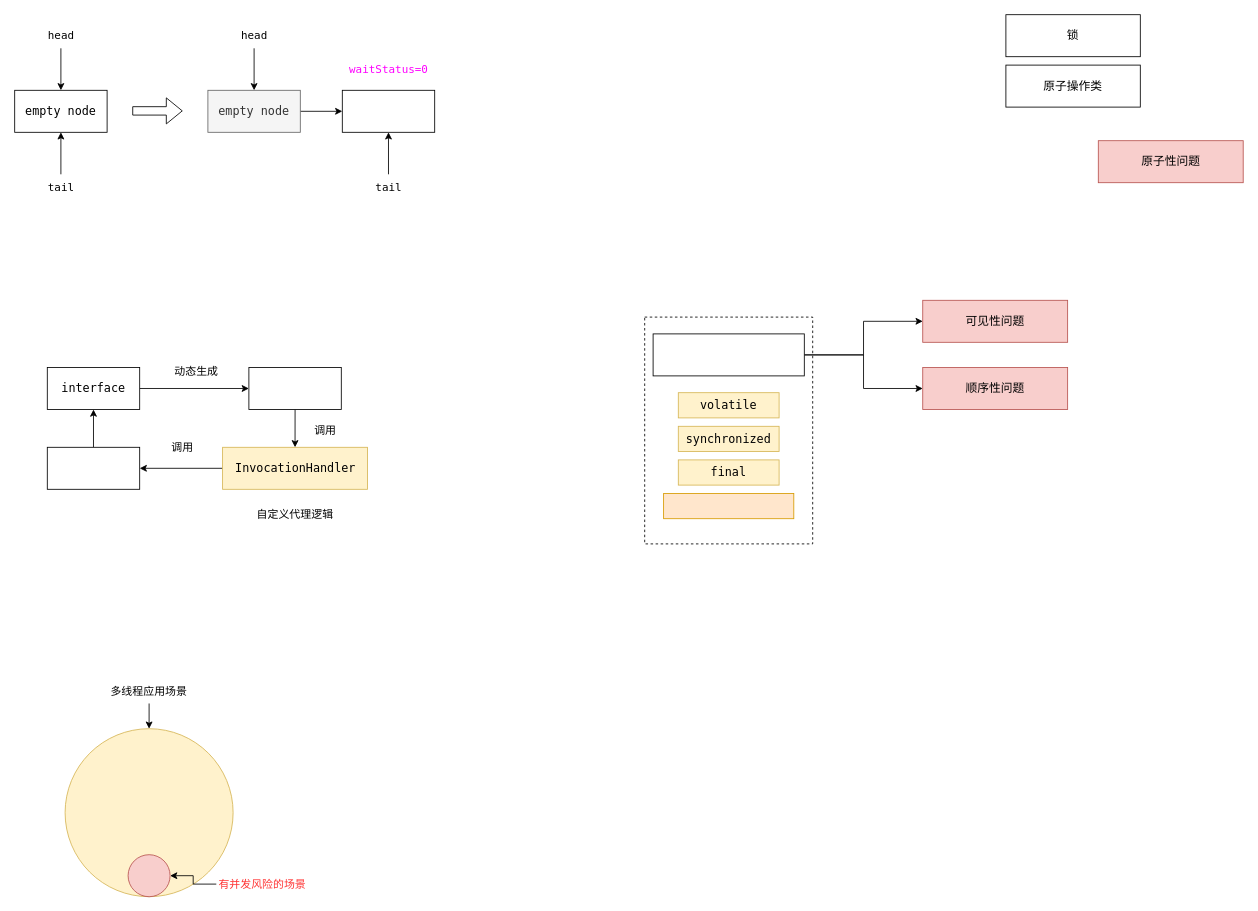
Some shapes in this 1258 by 911 pixel diagram are drawn without their labels. Here are the shapes that lost their labels. From the top down, the centre of each, then its label:
(388,110): wait node
(728,354): Java内存模型
(294,388): $Proxy对象
(93,467): 原始对象
(728,506): Happens-Before规则
